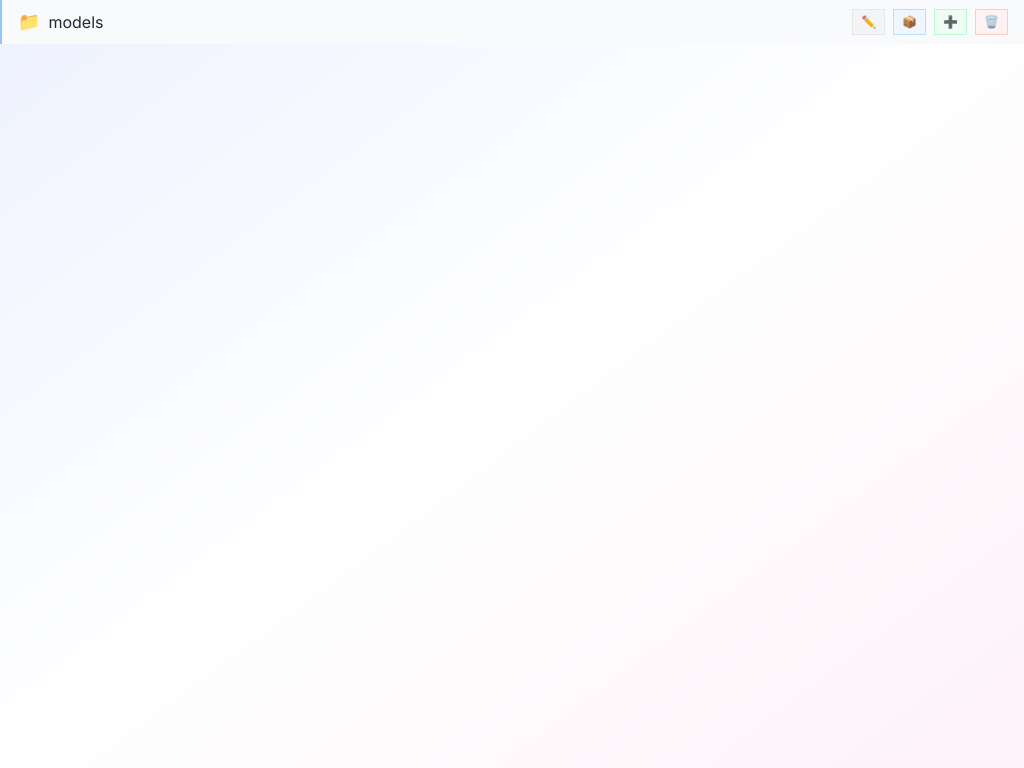
it: FileTreeNode › expands folder and loads children on click
Step 1. Click the text "models" → click(76, 22), box [48,12,104,32]
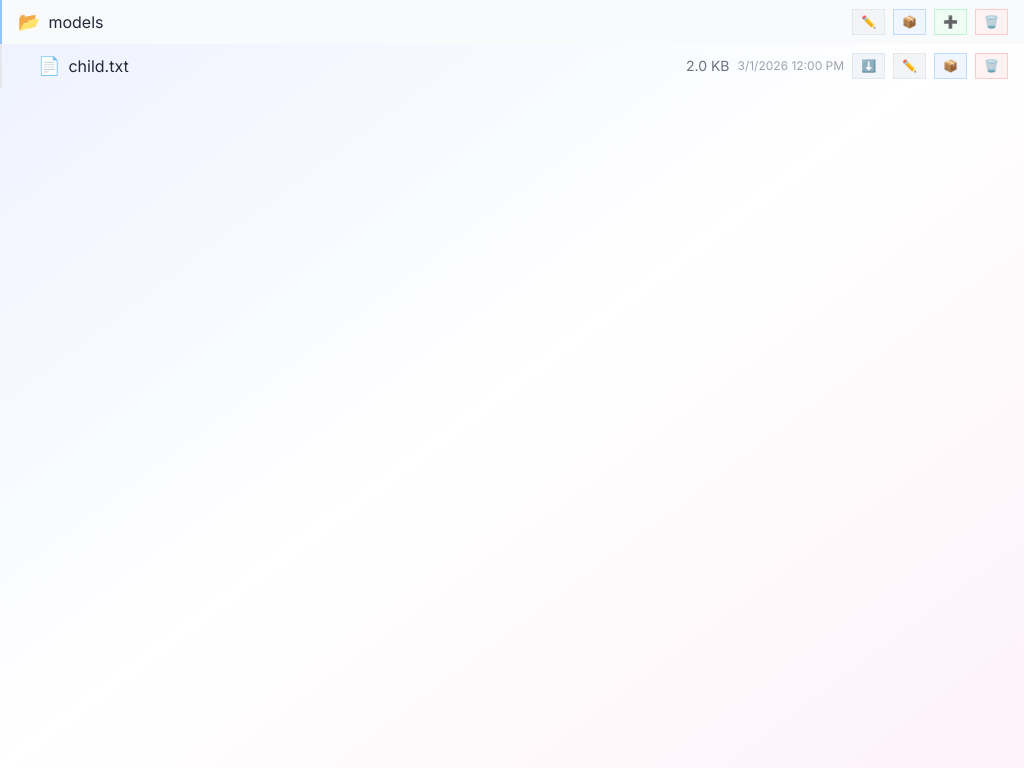
Expected: the text "child.txt" is shown, [68,56,129,76]
Expected: the text "📂" is shown, [18,11,40,32]
